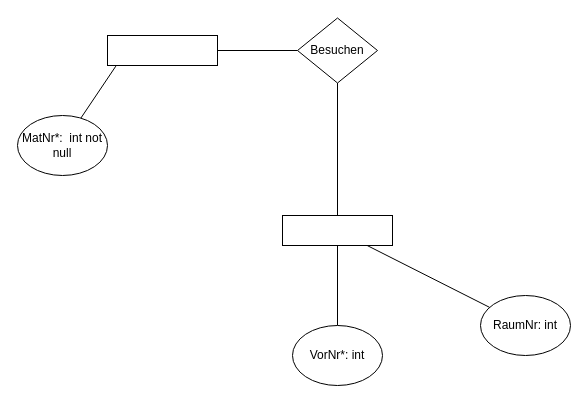
The diagram is 588 pixels wide and 403 high, and some of its shapes have lost their labels. The shapes that lost their labels are listed below. From the top down, each one's centre as x and y in pixels, then its label:
At pixel 162 50: "Student".
At pixel 337 230: "Vorlesung".
